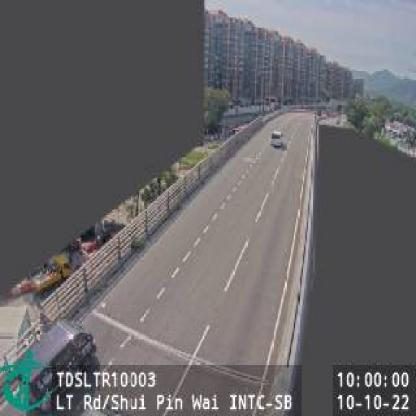Car: (17, 319, 100, 416), (271, 128, 285, 146)
